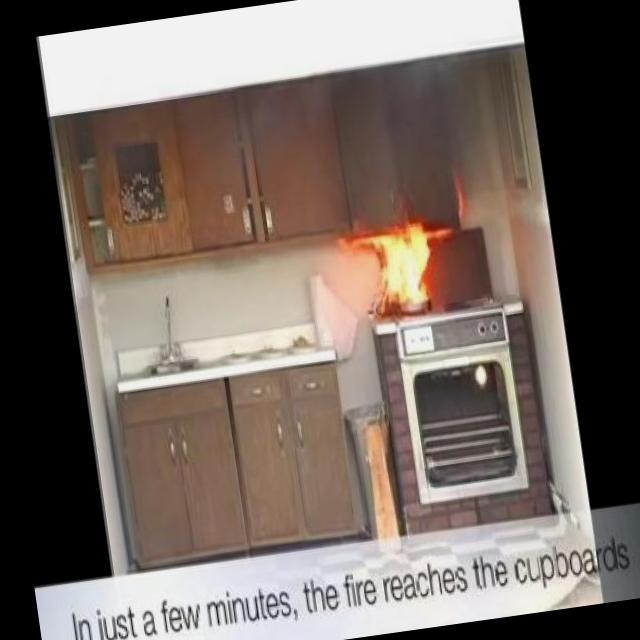fire: (342, 195, 494, 361)
